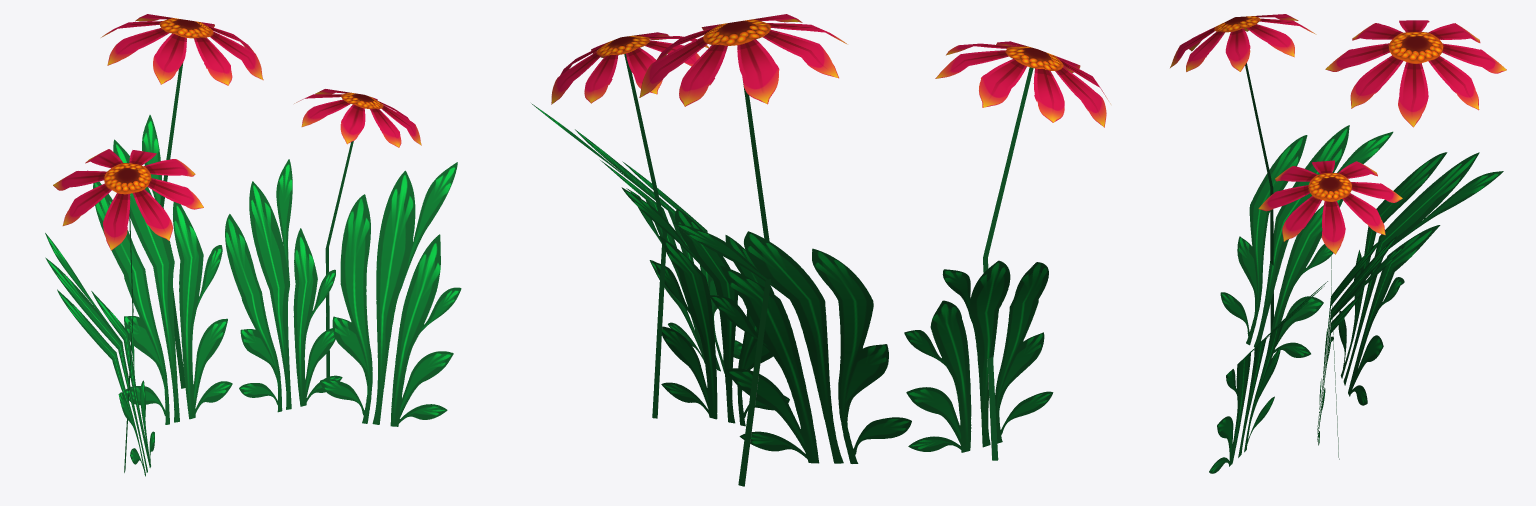
File: Flower_03b.FBX
3 views of the same model, side by side, from view 1: azimuth 30°, elevation 25°; view 2: azimuth 150°, elevation 25°; view 3: azimuth 270°, elevation 25° (orthographic). The views are drawn at different scales.
Visible parts, largest first — view 1: Flower_03b; view 2: Flower_03b; view 3: Flower_03b.
Part boxes in pixels (x1,y1,x2,y2): Flower_03b: (45,14,461,476); Flower_03b: (531,14,1110,486); Flower_03b: (1170,14,1506,473).
Bounding box in the file's own units: 33.62 × 26.16 × 22.81.
1 material, 1 textured.
